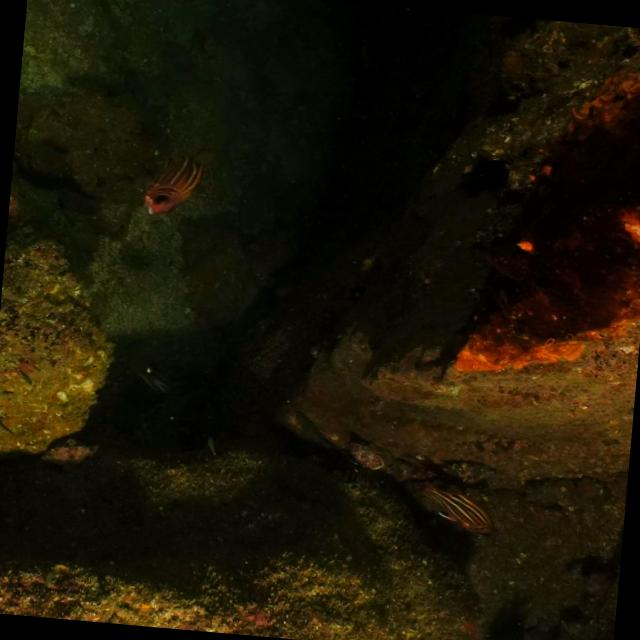Asker Baligi: (410, 479, 500, 537), (139, 150, 208, 220)
